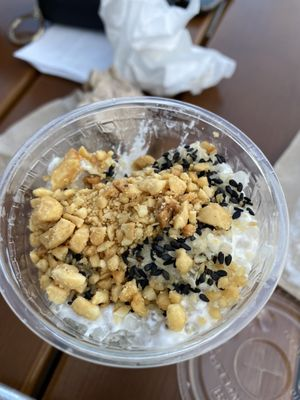sushi: (1, 96, 294, 384)
